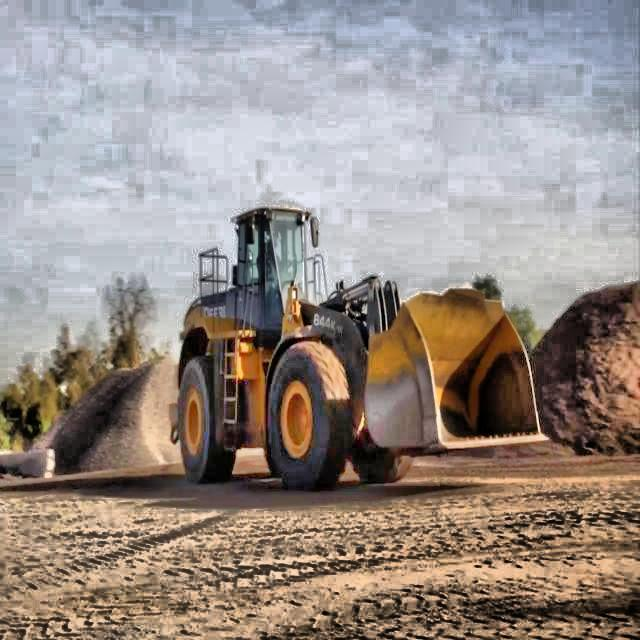bull_dozer/loader/grader: (164, 198, 548, 486)
